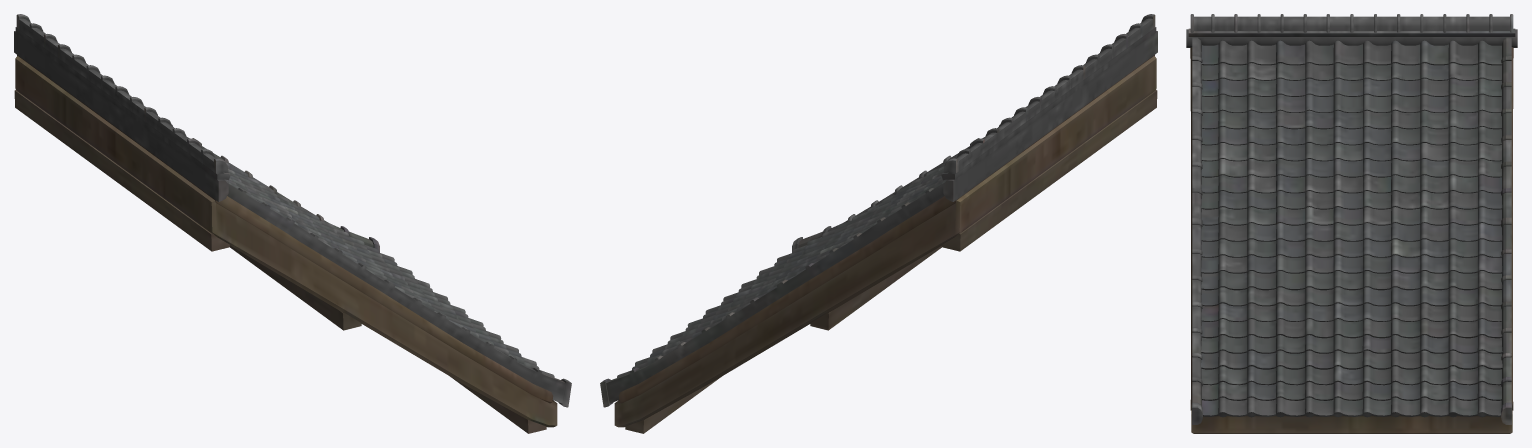
File: Architecture_JapaneseStyle_RoofC_a99663.glb
3 views of the same model, side by side, from view 1: azimuth 30°, elevation 25°; view 2: azimuth 150°, elevation 25°; view 3: azimuth 270°, elevation 25° (orthographic). The views are drawn at different scales.
Bounding box in the file's own units: 4.23 × 3.94 × 4.15.
1 material, 1 textured.
